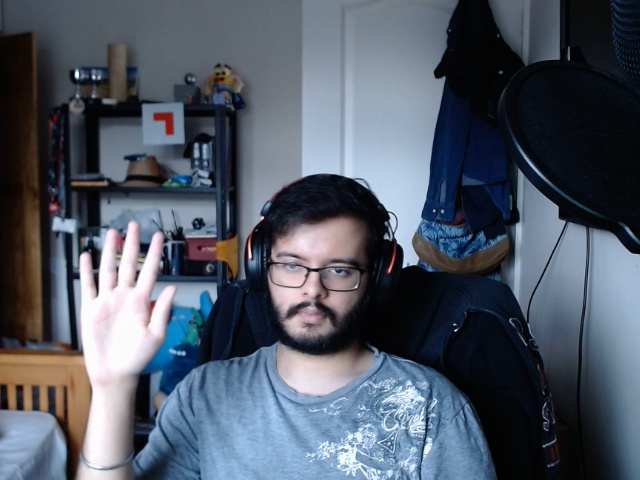Hello: (65, 212, 187, 389)
